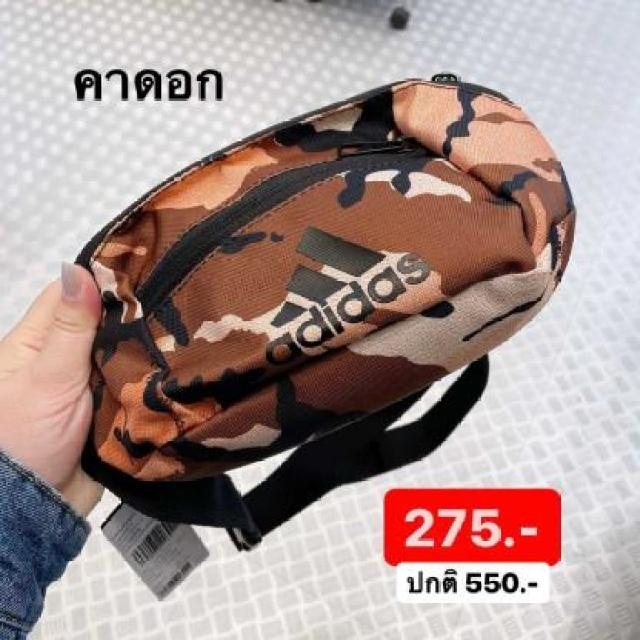Bag: (0, 76, 586, 544)
